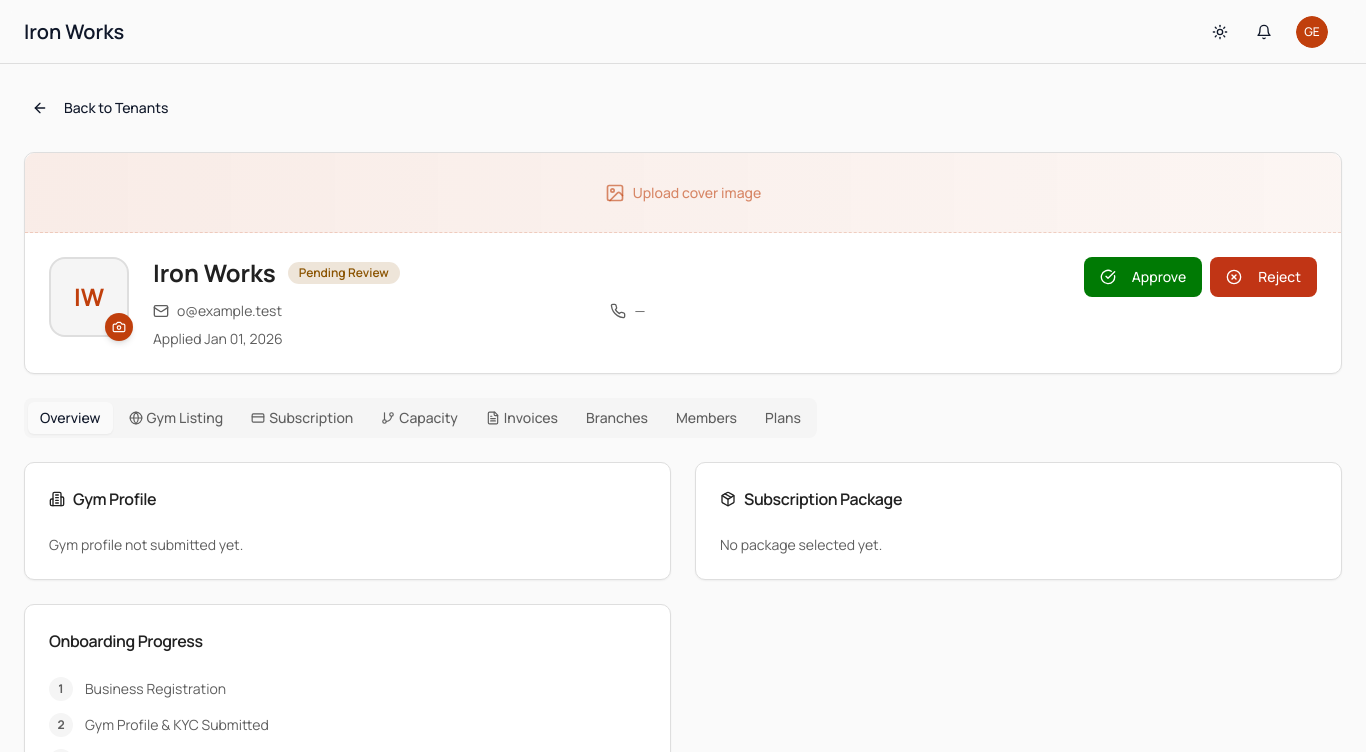
Test case: R-84: approve screen photo check › no photos: says so, and the tick still confirms the check
Step 1. Click the button "Approve" → (1143,277), box 1084,257 -> 1202,297
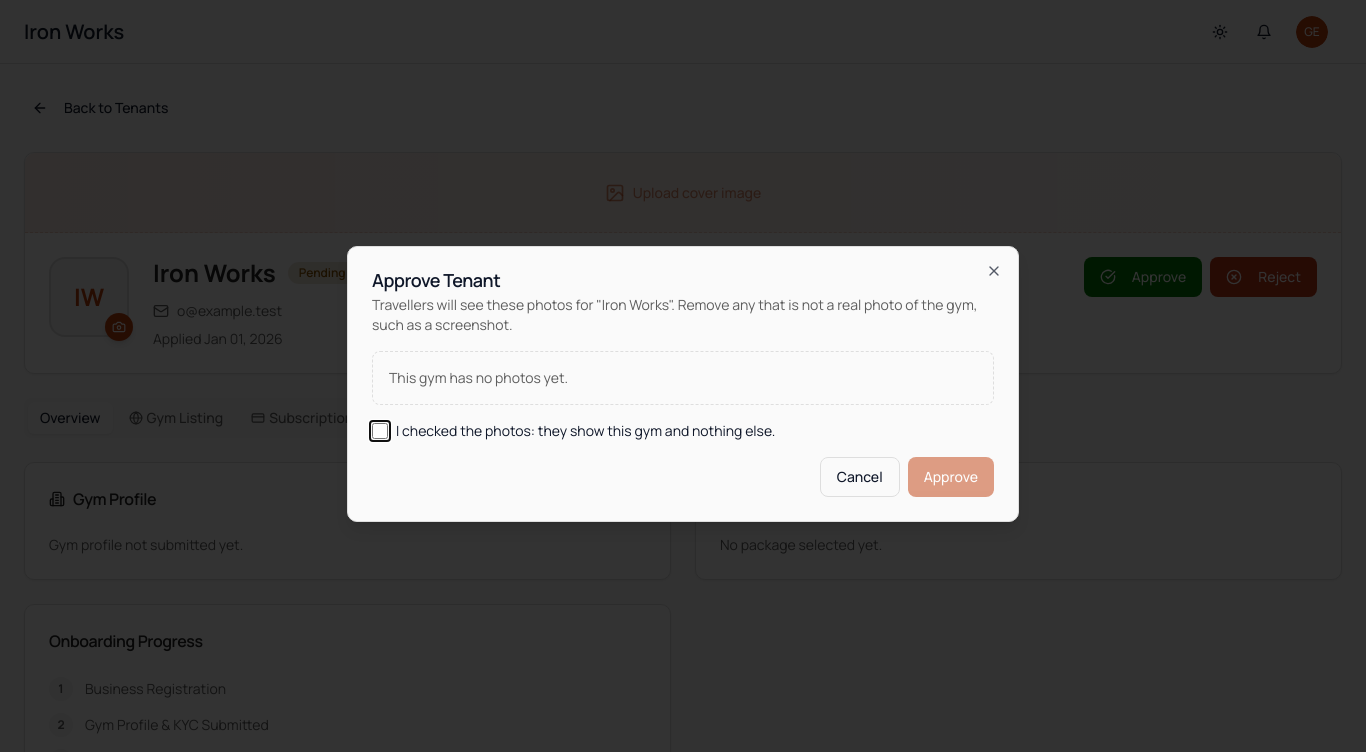
Expected: the text "This gym has no photos yet." is shown, 372,351 -> 994,405
Expected: the button "Approve" is disabled, 908,457 -> 994,497
